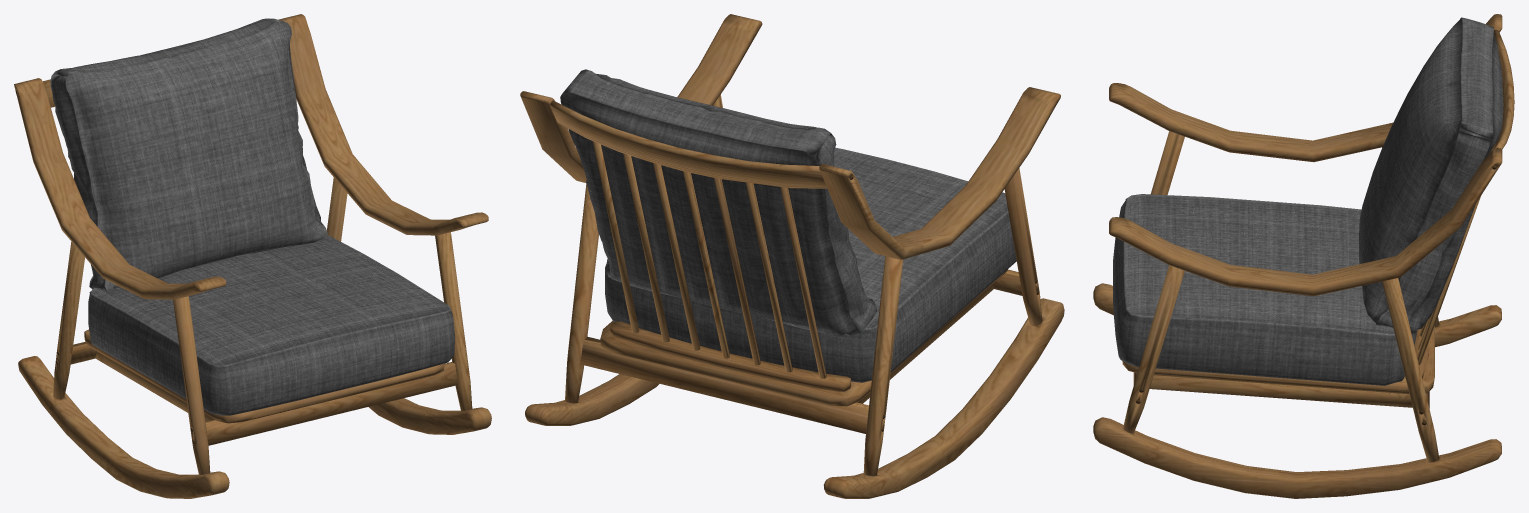
File: rocking-chair_1.glb
3 renders of one model, left to right at view 1: azimuth 30°, elevation 25°; view 2: azimuth 150°, elevation 25°; view 3: azimuth 270°, elevation 25°, orthographic. The views are drawn at different scales.
Parts seen in each view (by area): view 1: rocking-chair-007; view 2: rocking-chair-007; view 3: rocking-chair-007.
Part boxes in pixels (x1,y1,x2,y2): rocking-chair-007: (14,14,491,498); rocking-chair-007: (520,14,1064,498); rocking-chair-007: (1093,14,1514,498).
Size of the model in its own units: 0.7258 by 0.8152 by 0.8684.
1 material, 1 textured.
